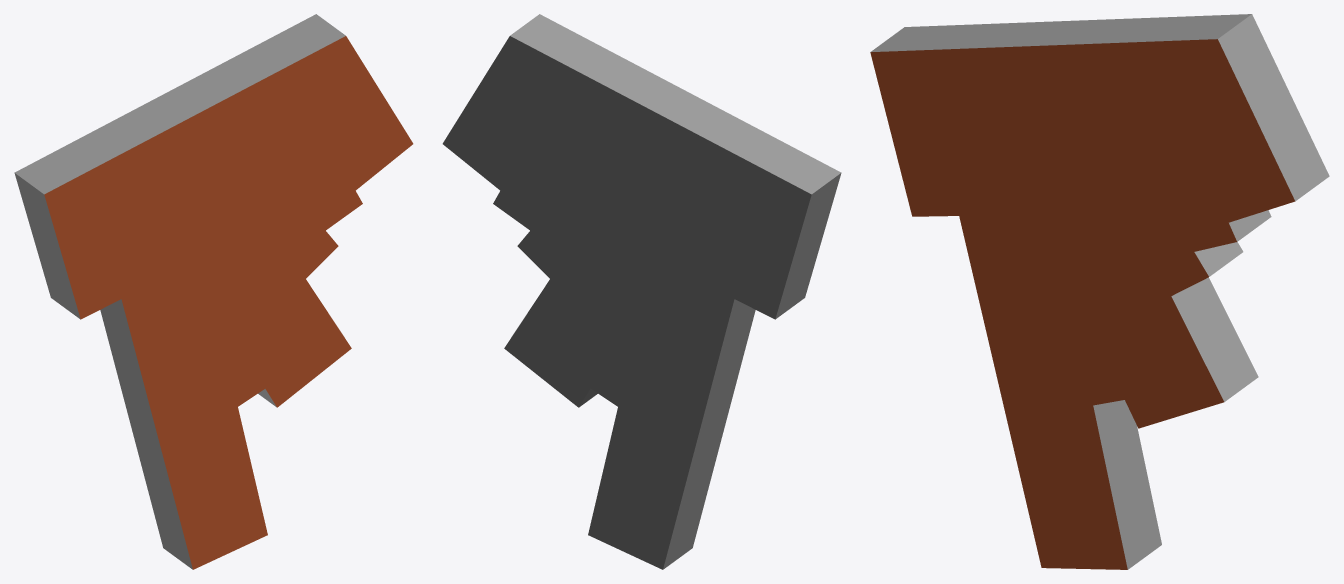
Rendered from construction_6792_assumed_A_Casa_h6m.obj.
3 renders of one model, left to right at view 1: azimuth 30°, elevation 25°; view 2: azimuth 150°, elevation 25°; view 3: azimuth 330°, elevation 25°, orthographic. The views are drawn at different scales.
Visible parts, largest first — view 1: construction_6792_assumed_A_Casa; view 2: construction_6792_assumed_A_Casa; view 3: construction_6792_assumed_A_Casa.
Part boxes in pixels (bbox=[...]): construction_6792_assumed_A_Casa: bbox=[14, 14, 413, 569]; construction_6792_assumed_A_Casa: bbox=[442, 14, 841, 569]; construction_6792_assumed_A_Casa: bbox=[870, 14, 1329, 569].
Size of the model in its own units: 42.91 by 55.15 by 6.
